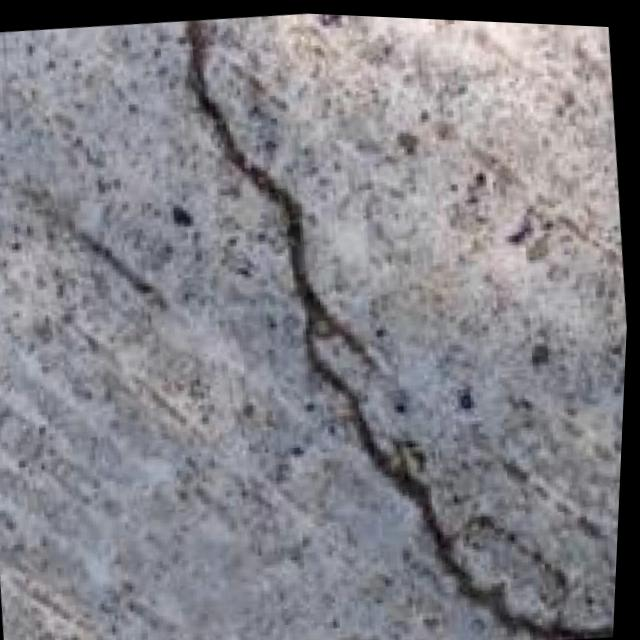Crack: (145, 6, 638, 640)
